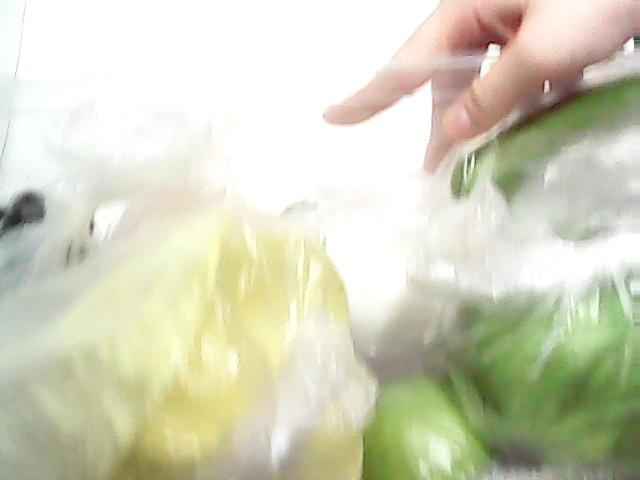apple: (348, 370, 502, 480)
cabbage: (444, 238, 640, 462)
napa cabbage: (0, 200, 364, 479)
pepper: (447, 76, 640, 208)
radish: (289, 202, 439, 360)
